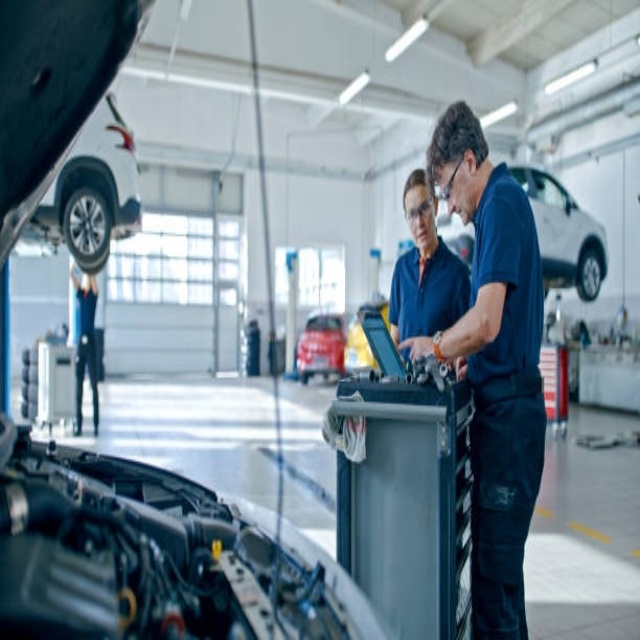Gafas: (437, 155, 466, 202), (406, 198, 433, 224)
Sin_guantes: (395, 326, 438, 361)
Sin_mascara: (447, 203, 468, 227), (413, 227, 429, 247)
